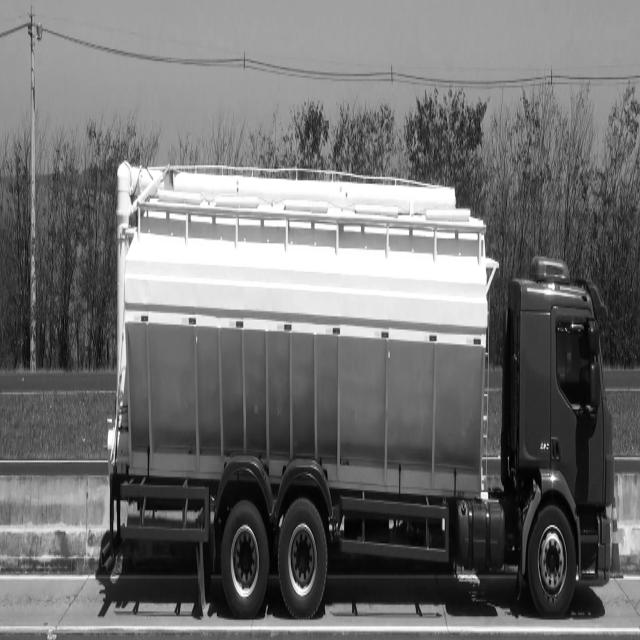Pole: (29, 6, 36, 368)
Truck: (102, 162, 618, 618)
